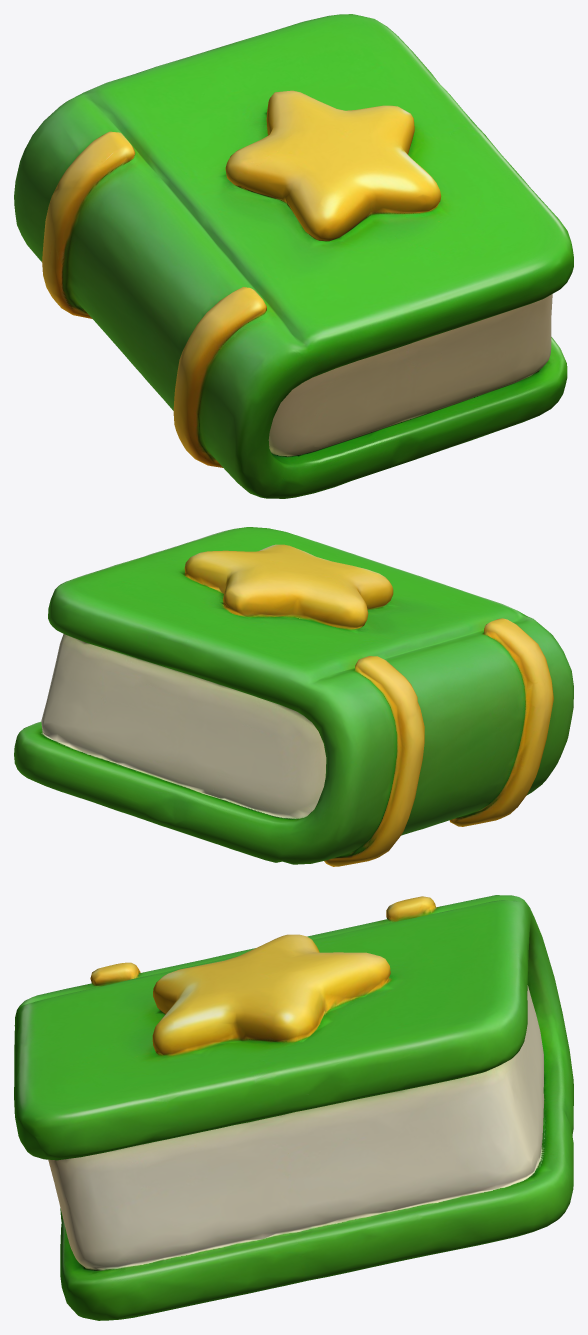
File: acc-book.glb
3 views of the same model, one above another, from view 1: azimuth 30°, elevation 25°; view 2: azimuth 150°, elevation 25°; view 3: azimuth 270°, elevation 25° (orthographic). The views are drawn at different scales.
Visible parts, largest first — view 1: tripo_node_756360e1-8a31-4e79-9bc0-9811601b3de3; view 2: tripo_node_756360e1-8a31-4e79-9bc0-9811601b3de3; view 3: tripo_node_756360e1-8a31-4e79-9bc0-9811601b3de3.
Part boxes in pixels (x1,y1,x2,y2): tripo_node_756360e1-8a31-4e79-9bc0-9811601b3de3: (14, 14, 573, 498); tripo_node_756360e1-8a31-4e79-9bc0-9811601b3de3: (14, 527, 573, 866); tripo_node_756360e1-8a31-4e79-9bc0-9811601b3de3: (14, 895, 573, 1320).
Bounding box in the file's own units: 0.8671 × 0.6342 × 1.
Materials: 1 (1 with a texture image).
